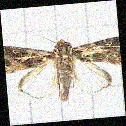Spodoptera litura: (5, 30, 121, 107)
